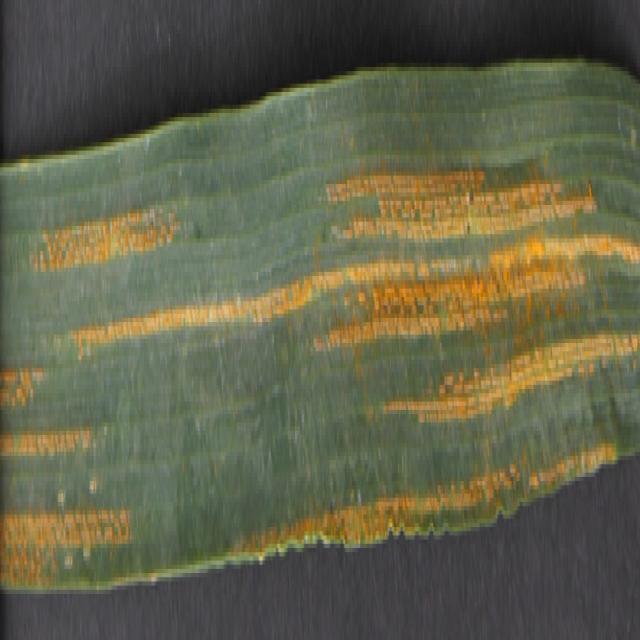leaf rust: (2, 159, 638, 611)
